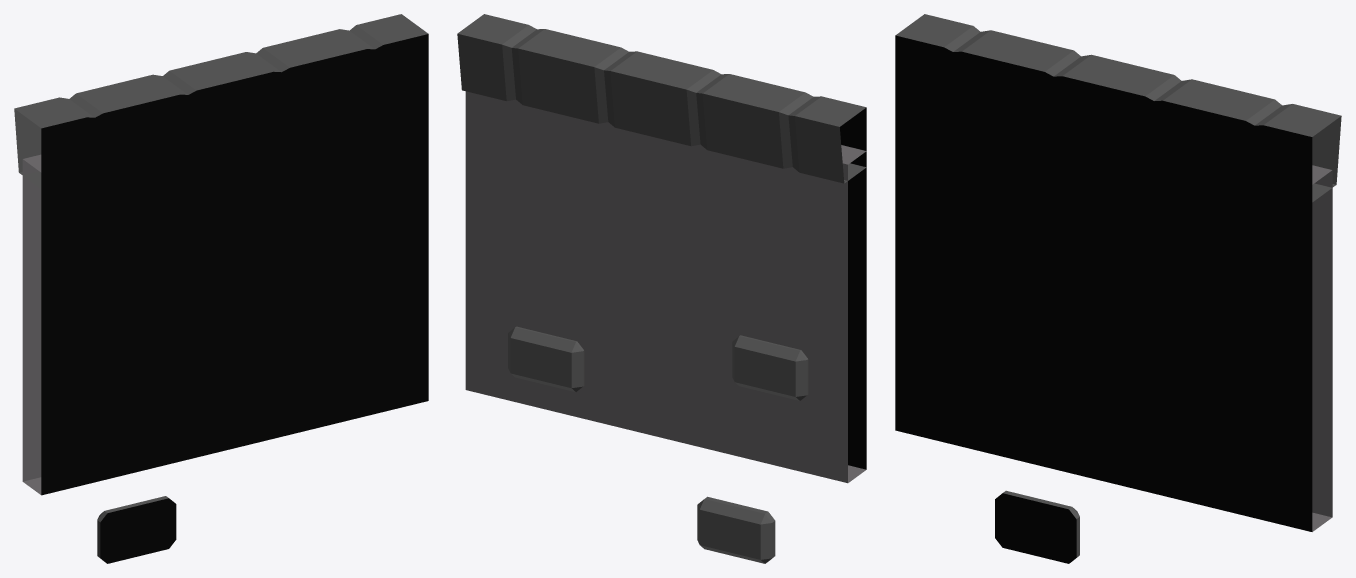
The model's file is Wall_5.fbx.
3 renders of one model, left to right at view 1: azimuth 30°, elevation 25°; view 2: azimuth 150°, elevation 25°; view 3: azimuth 330°, elevation 25°, orthographic. The views are drawn at different scales.
Visible parts, largest first — view 1: Wall_5; view 2: Wall_5; view 3: Wall_5.
Boxes of the visible parts, box(x1,y1,x2,y2) form: Wall_5: box(14, 14, 428, 563); Wall_5: box(457, 14, 866, 563); Wall_5: box(895, 14, 1341, 563).
Size of the model in its own units: 200 by 231 by 24.35.
